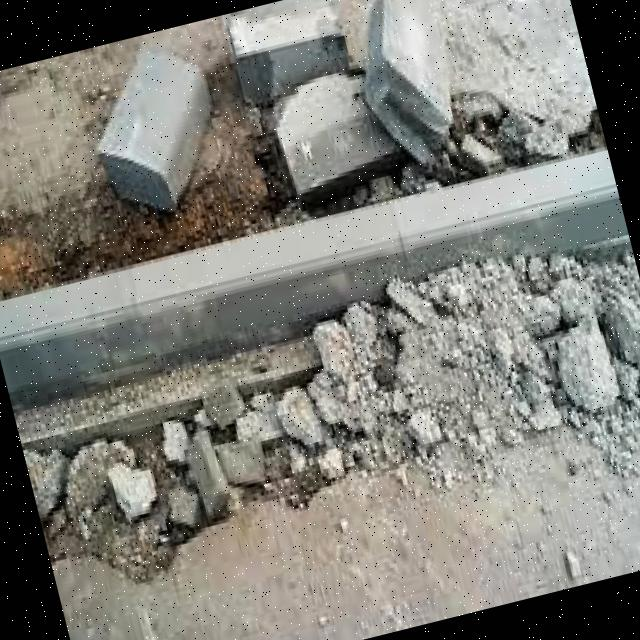curb: (1, 155, 631, 394)
